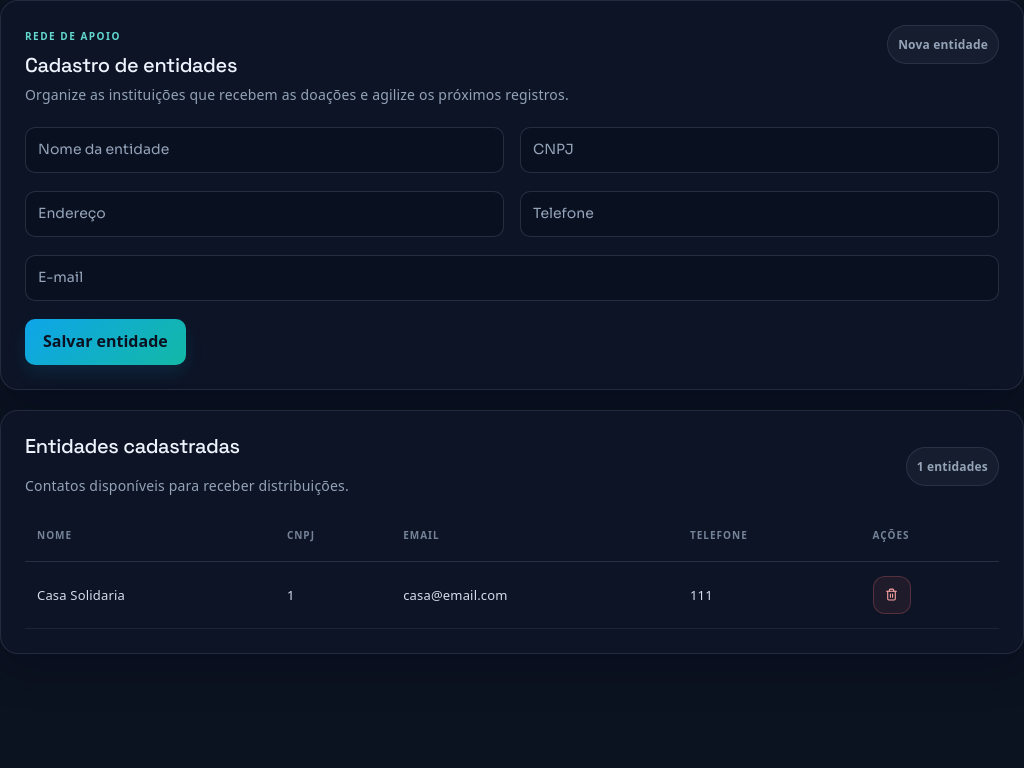
Test: exclui uma entidade apos confirmacao no dialogo
Expected: the text "Casa Solidaria" is shown, [25,561,275,628]
Click the button named "excluir entidade casa solidaria".
click(892, 595)  # box [873,576,911,614]
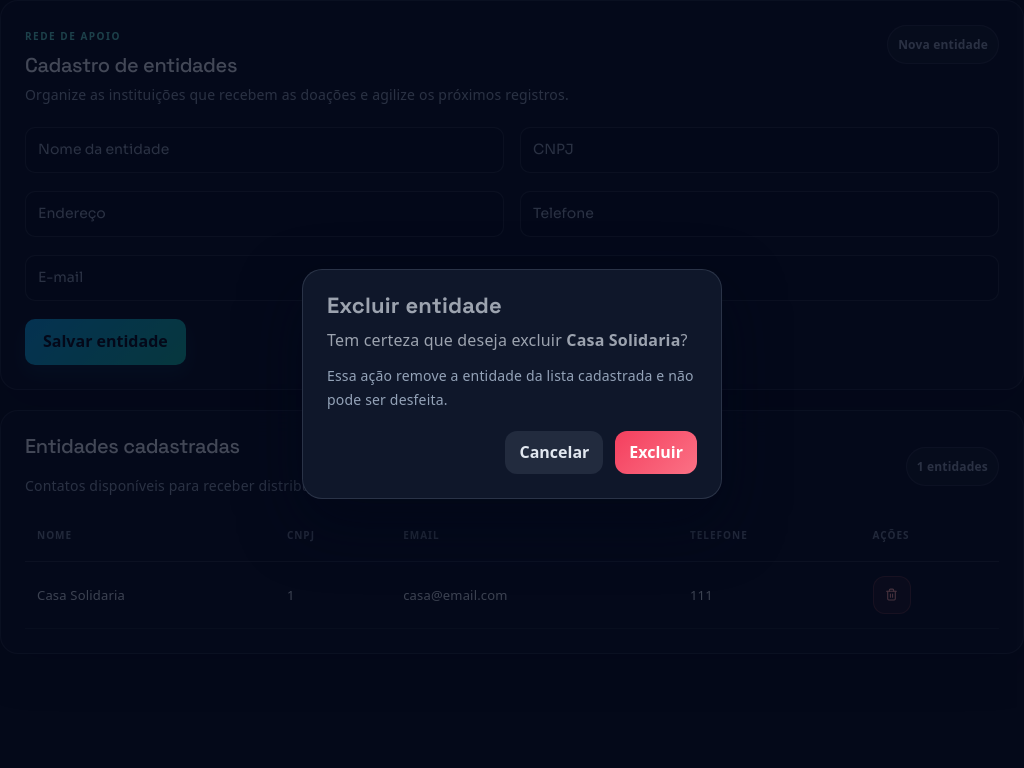
Expected: the text "Tem certeza que deseja excluir Casa Solidaria?" is shown, [327,329,697,352]
Click the button "Excluir".
click(656, 452)  # box [615,431,697,474]
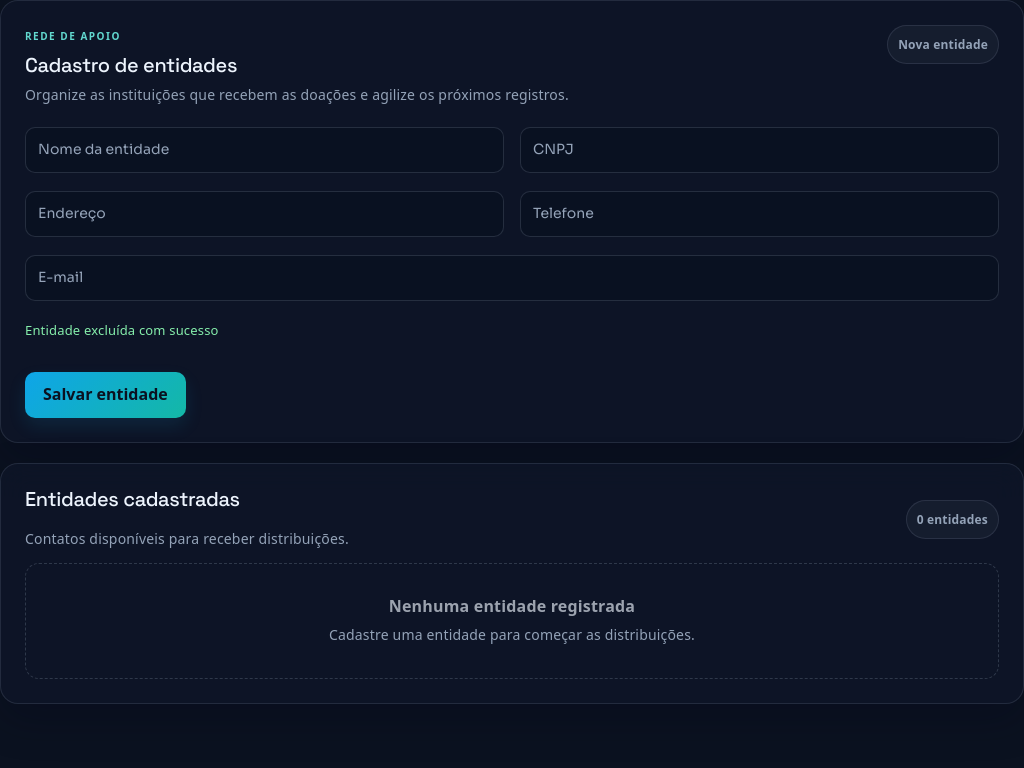
Expected: the text "Entidade excluída com sucesso" is shown, [25,321,219,339]
Expected: the text "Casa Solidaria" is gone
